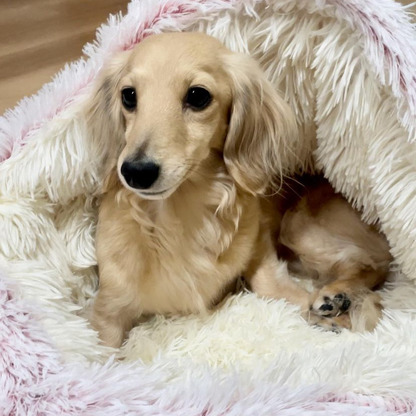dachshund: (74, 46, 377, 363)
